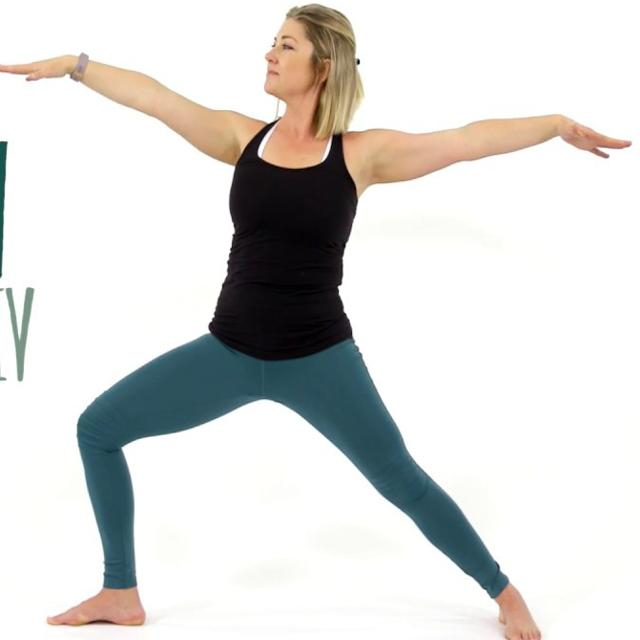Warrior_II: (1, 3, 637, 640)
